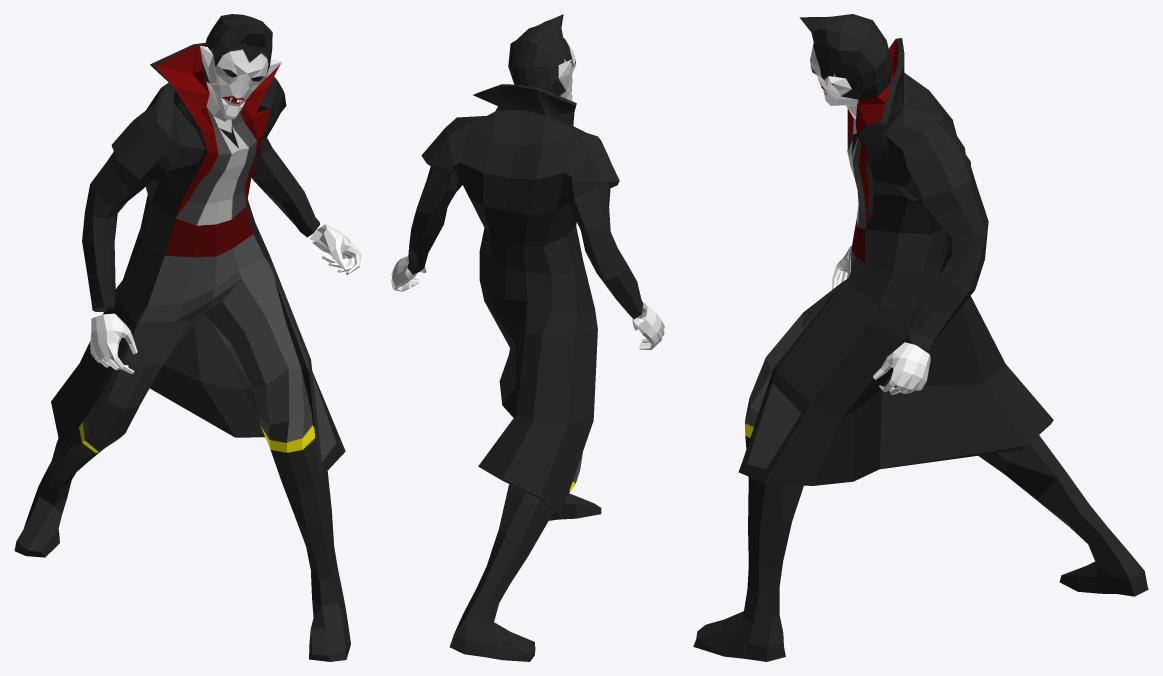
File: VampireIdle(48).obj
3 views of the same model, side by side, from view 1: azimuth 30°, elevation 25°; view 2: azimuth 150°, elevation 25°; view 3: azimuth 270°, elevation 25° (orthographic). The views are drawn at different scales.
Visible parts, largest first — view 1: Plane002; view 2: Plane002; view 3: Plane002.
Boxes of the visible parts, x1,y1,x2,y2 form: Plane002: (14,14,361,661); Plane002: (390,14,664,661); Plane002: (693,14,1148,661).
Size of the model in its own units: 148 by 300 by 201.
